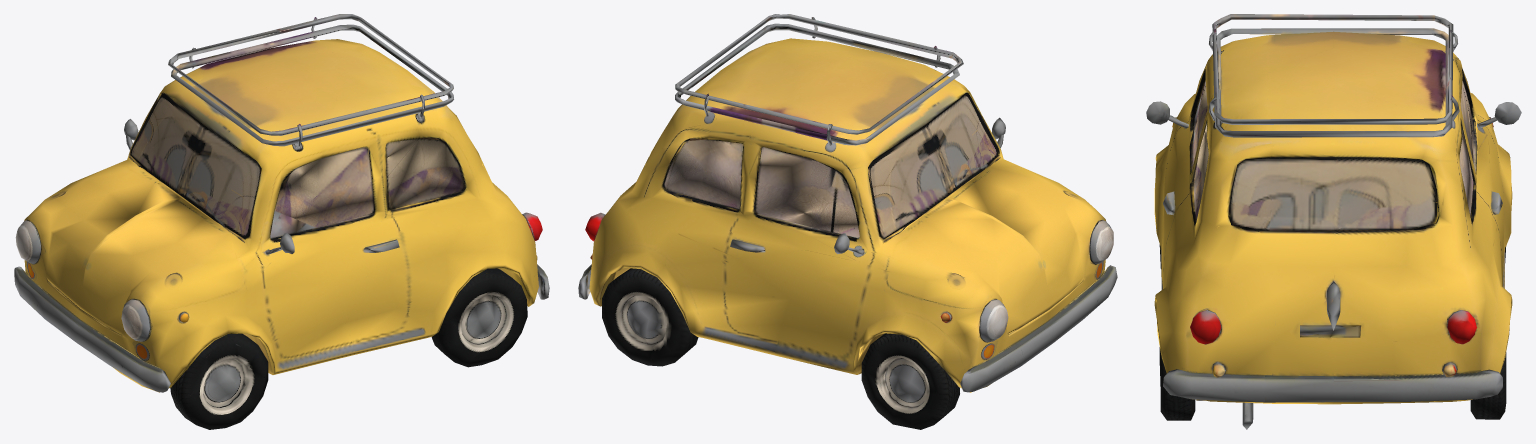
Rendered from yellow-car-no-blanket.glb.
3 renders of one model, left to right at view 1: azimuth 30°, elevation 25°; view 2: azimuth 150°, elevation 25°; view 3: azimuth 270°, elevation 25°, orthographic. The views are drawn at different scales.
Visible parts, largest first — view 1: Mesh_0.001; view 2: Mesh_0.001; view 3: Mesh_0.001.
Part boxes in pixels (x1=…): Mesh_0.001: x1=14, y1=14, x2=549, y2=429; Mesh_0.001: x1=578, y1=14, x2=1117, y2=429; Mesh_0.001: x1=1146, y1=14, x2=1521, y2=429.
Bounding box in the file's own units: 0.1766 × 0.1086 × 0.1241.
Materials: 1 (1 with a texture image).
